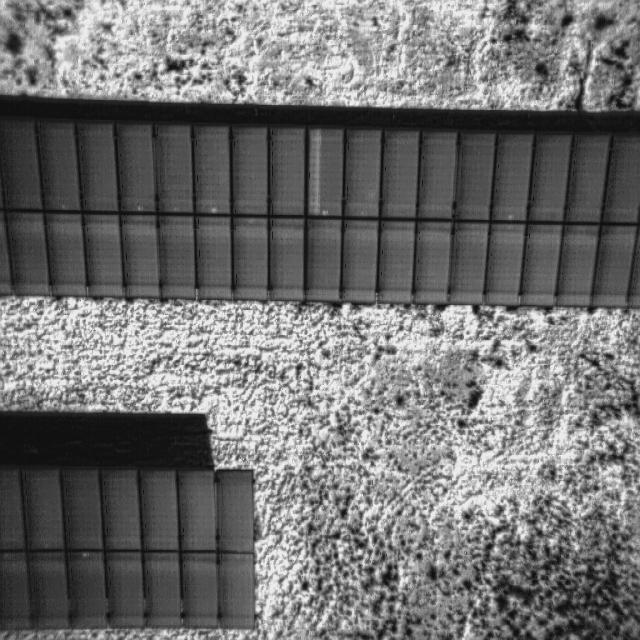diode: (309, 127, 322, 217)
